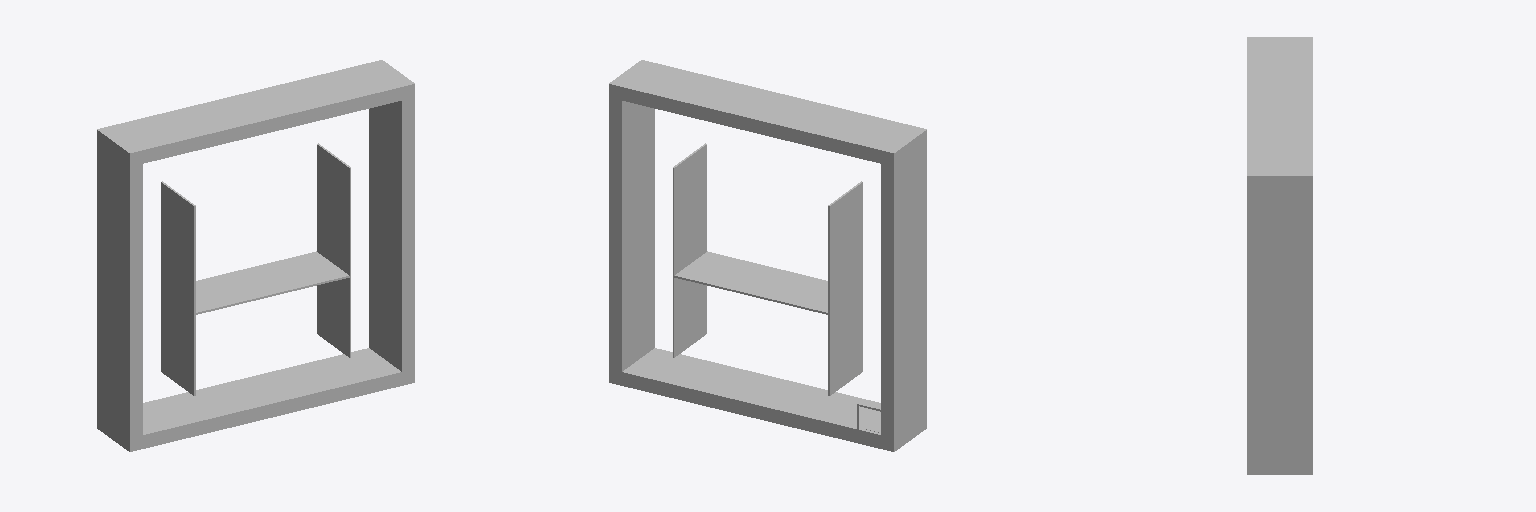
File: Room70.obj
3 renders of one model, left to right at view 1: azimuth 30°, elevation 25°; view 2: azimuth 150°, elevation 25°; view 3: azimuth 270°, elevation 25°, orthographic.
Visible parts, largest first — view 1: Curve.001_mesh_Curve.001; view 2: Curve.001_mesh_Curve.001; view 3: Curve.001_mesh_Curve.001.
Part boxes in pixels (x1,y1,x2,y2): Curve.001_mesh_Curve.001: (97,60,414,451); Curve.001_mesh_Curve.001: (609,60,926,451); Curve.001_mesh_Curve.001: (1247,37,1312,474).
Size of the model in its own units: 1 by 1 by 0.2.